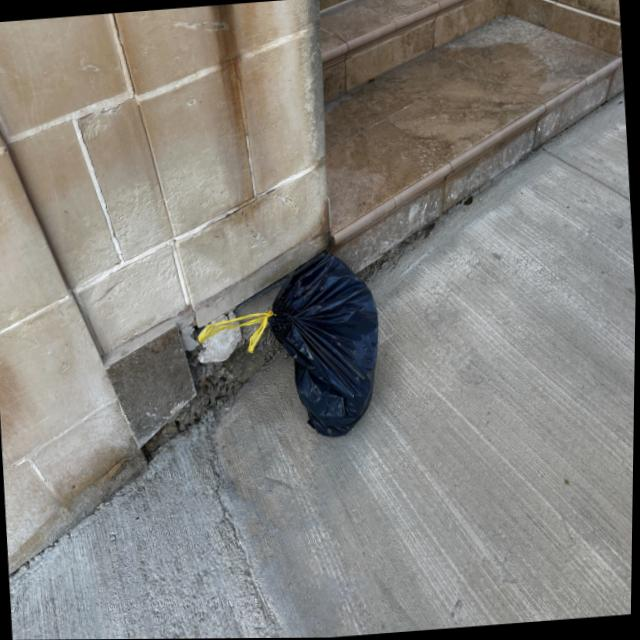Mixed Waste -Black Bags-: (199, 254, 380, 437)
